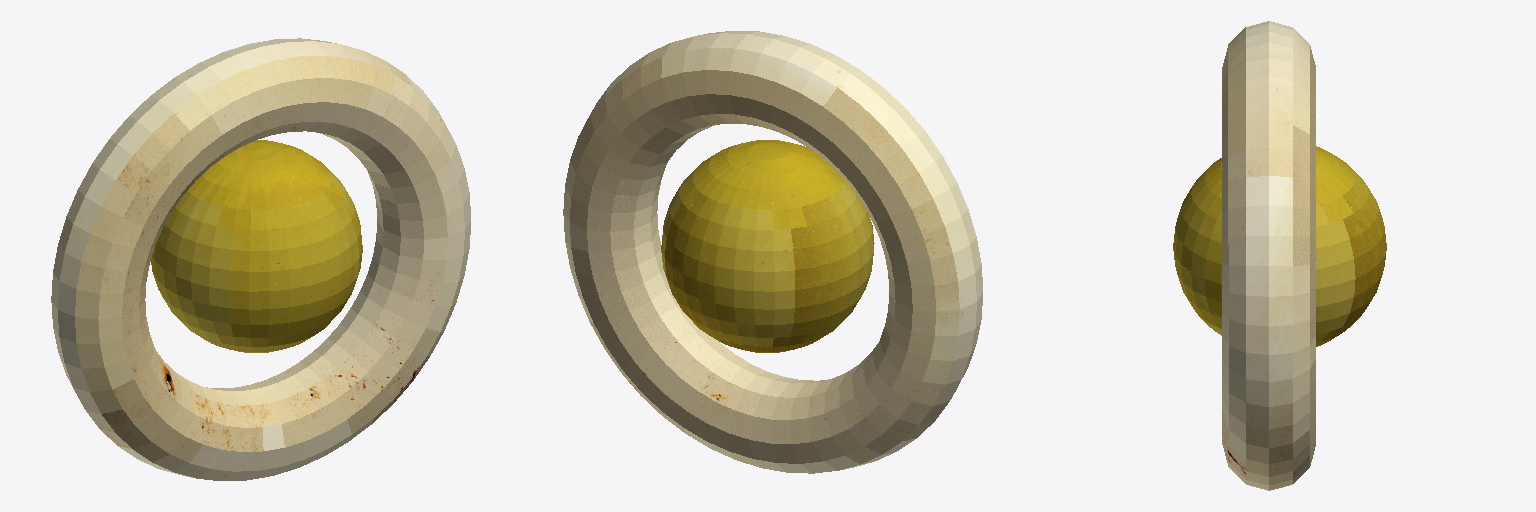
3 renders of one model, left to right at view 1: azimuth 30°, elevation 25°; view 2: azimuth 150°, elevation 25°; view 3: azimuth 270°, elevation 25°, orthographic.
Visible parts, largest first — view 1: Torus, Sphere; view 2: Torus, Sphere; view 3: Torus, Sphere.
Boxes of the visible parts, box(x1,y1,x2,y2) form: Torus: box(51, 38, 470, 480); Sphere: box(151, 140, 362, 352); Torus: box(563, 31, 982, 473); Sphere: box(661, 140, 874, 352); Torus: box(1222, 21, 1315, 490); Sphere: box(1173, 146, 1386, 346).
Bounding box in the file's own units: 0.0909 × 0.0909 × 0.0413.
Materials: 2 (2 with a texture image).